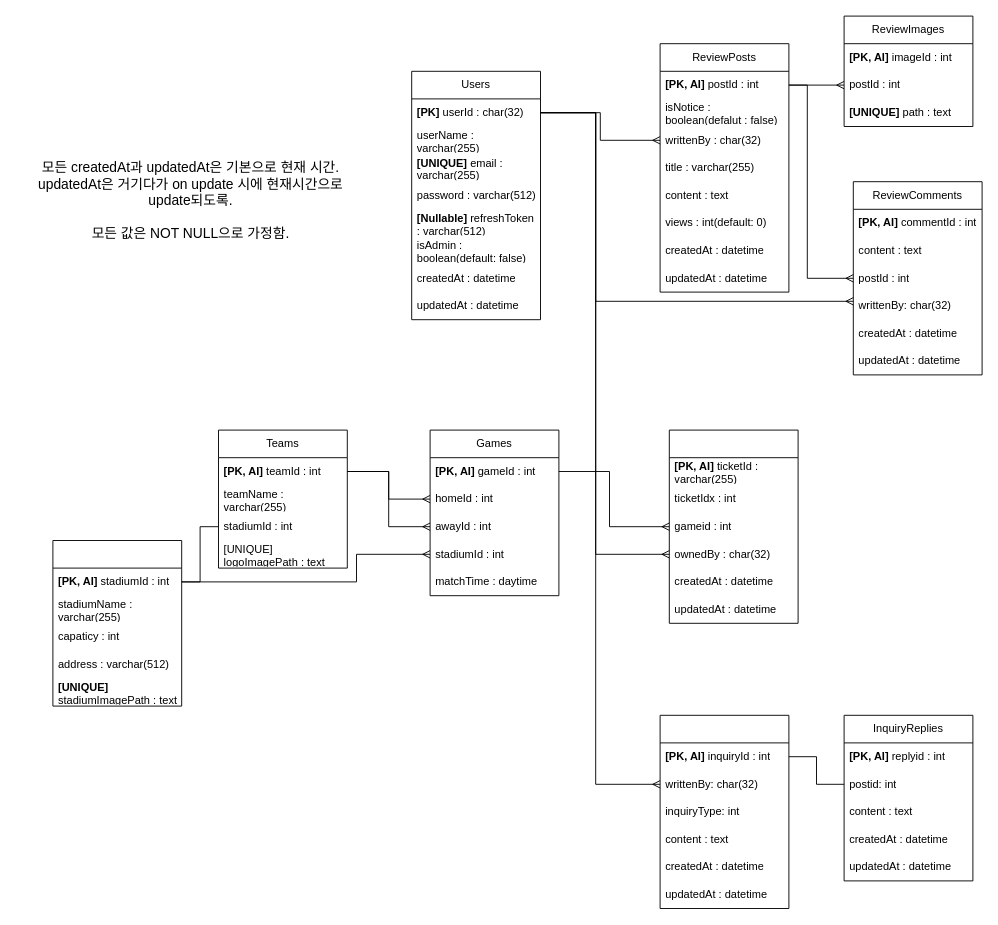
The diagram is 998 pixels wide and 925 high, and some of its shapes have lost their labels. Here are the shapes that lost their labels. From the top down, the box of each, then its label:
(668, 429, 798, 623): Tickets
(52, 540, 182, 706): Stadiums
(659, 714, 789, 908): InquiryPosts
